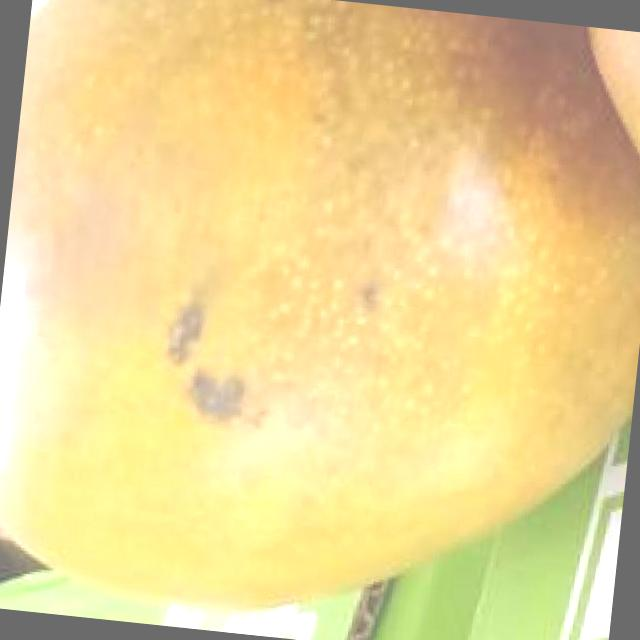Mango: (0, 0, 640, 640), (572, 26, 640, 179)
